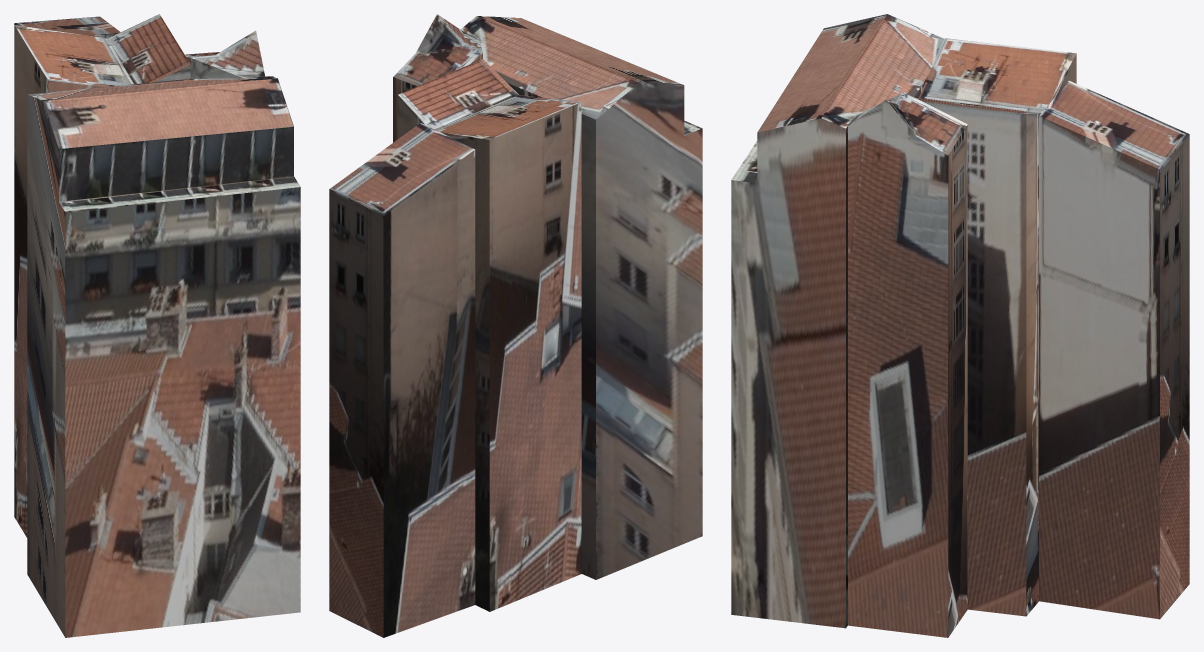
3 renders of one model, left to right at view 1: azimuth 30°, elevation 25°; view 2: azimuth 150°, elevation 25°; view 3: azimuth 270°, elevation 25°, orthographic. The views are drawn at different scales.
Parts seen in each view (by area): view 1: Z_UP; view 2: Z_UP; view 3: Z_UP.
Boxes of the visible parts, <box> form: Z_UP: <box>14,14,300,637</box>; Z_UP: <box>329,14,702,637</box>; Z_UP: <box>731,14,1189,637</box>.
Size of the model in its own units: 15.23 by 30.32 by 23.76.
Materials: 2 (1 with a texture image).
